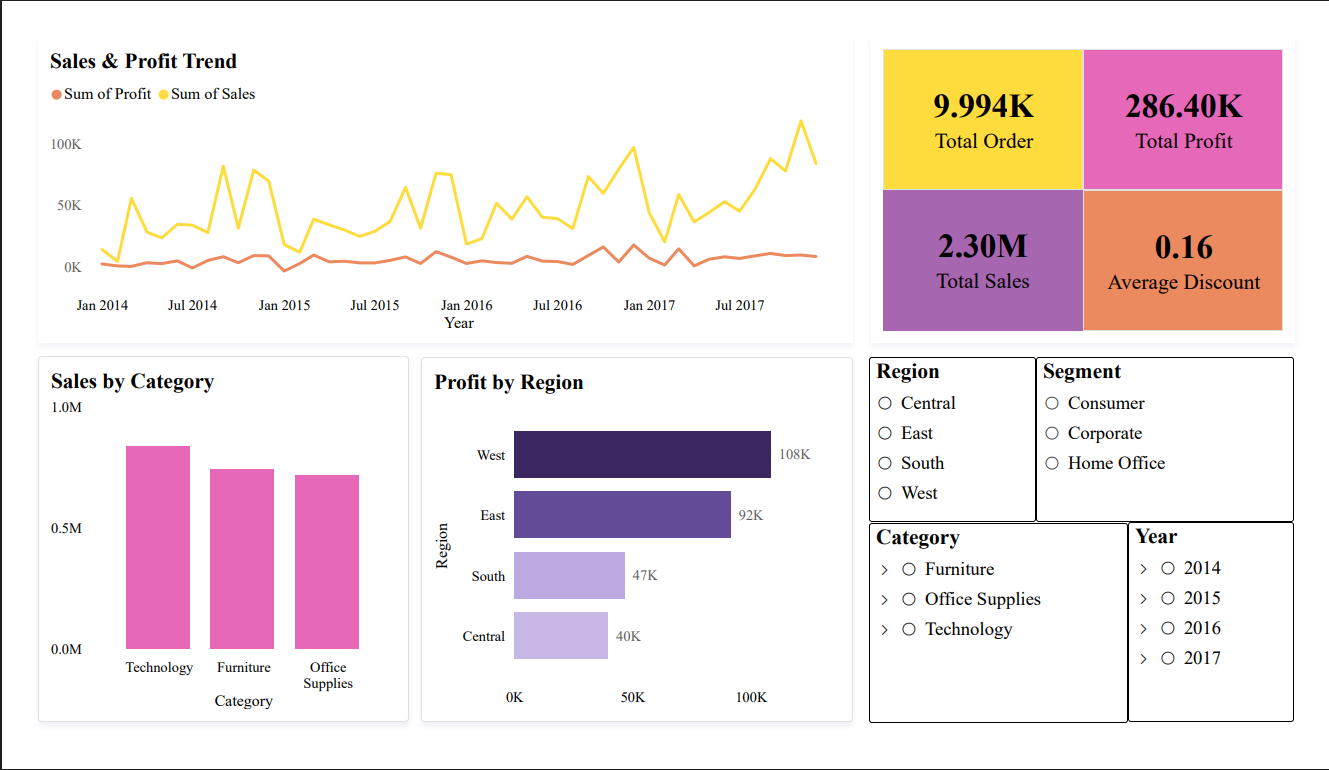

This screenshot's page, from the dashboard's own definition file:
{"tool":"powerbi","page":{"name":"Page 1","canvas":[1280,720],"ordinal":0},"visuals":[{"type":"cardVisual","fields":{"Data":["CountNonNull(cleaned_data.Order ID)","Sum(cleaned_data.Profit)","Sum(cleaned_data.Sales)","Avg(cleaned_data.Discount)"]},"box":[844.8,11.6,424.1,306.4],"z":0},{"type":"lineChart","title":"Sales & Profit Trend","fields":{"Category":["cleaned_data.Order Date.Variation.Date Hierarchy.Year","cleaned_data.Order Date.Variation.Date Hierarchy.Month"],"Y":["Sum(cleaned_data.Profit)","Sum(cleaned_data.Sales)"]},"box":[11.6,11.6,815,306.4],"z":1000},{"type":"clusteredColumnChart","title":"Sales by Category","fields":{"Y":["Sum(cleaned_data.Sales)"],"Category":["cleaned_data.Category"]},"box":[11.6,331.3,371.1,366.1],"z":2000},{"type":"clusteredBarChart","title":"Profit by Region","fields":{"Y":["Sum(cleaned_data.Profit)"],"Category":["cleaned_data.Region"]},"box":[395,331.7,431.7,365],"z":3000},{"type":"listSlicer","fields":{"Values":["cleaned_data.Region"]},"box":[843.3,331.7,166.7,165],"z":4000},{"type":"listSlicer","fields":{"Values":["cleaned_data.Category","cleaned_data.Sub-Category"]},"box":[843.3,498.3,258.3,200],"z":5000},{"type":"listSlicer","fields":{"Values":["cleaned_data.Segment"]},"box":[1010,331.7,258.3,165],"z":6000},{"type":"listSlicer","fields":{"Values":["cleaned_data.Order Date.Variation.Date Hierarchy.Year","cleaned_data.Order Date.Variation.Date Hierarchy.Month"]},"box":[1101.7,496.7,166.7,200],"z":7000}]}

Visuals, with their boxes in screenshot pixels (x1, y1, x2, y2), scaled from the page's 1280x720 canvas onto the 1329x770 screenshot:
cardVisual - CountNonNull(cleaned_data.Order ID) x Sum(cleaned_data.Profit): [877,12,1317,340]
"Sales & Profit Trend" lineChart: [12,12,858,340]
"Sales by Category" clusteredColumnChart: [12,354,397,746]
"Profit by Region" clusteredBarChart: [410,355,858,745]
listSlicer - cleaned_data.Region: [876,355,1049,531]
listSlicer - cleaned_data.Category x cleaned_data.Sub-Category: [876,533,1144,747]
listSlicer - cleaned_data.Segment: [1049,355,1317,531]
listSlicer - cleaned_data.Order Date.Variation.Date Hierarchy.Year x cleaned_data.Order Date.Variation.Date Hierarchy.Month: [1144,531,1317,745]
